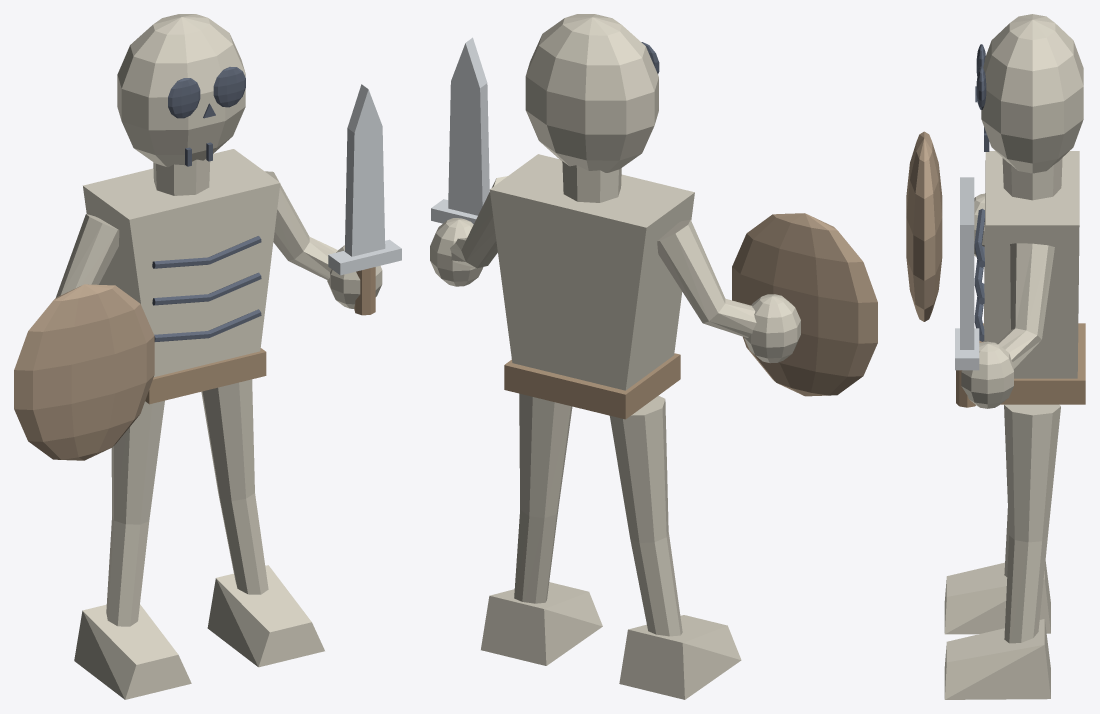
The model's file is skeleton-warrior.glb.
3 views of the same model, side by side, from view 1: azimuth 30°, elevation 25°; view 2: azimuth 150°, elevation 25°; view 3: azimuth 270°, elevation 25° (orthographic). The views are drawn at different scales.
Visible parts, largest first — view 1: torso, round_shield, head, leg_1, leg_-1, foot_1, foot_-1, sword_blade, belt, arm_-1, arm_1, neck (+8 smaller); view 2: torso, round_shield, head, leg_-1, leg_1, foot_-1, foot_1, sword_blade, belt, arm_-1, hand_-1, arm_1 (+2 smaller); view 3: torso, head, leg_1, foot_1, round_shield, foot_-1, arm_1, sword_blade, hand_1, belt, neck, sword_guard (+6 smaller).
Part boxes in pixels (x1=…): torso: x1=83, y1=149, x2=280, y2=376; round_shield: x1=14, y1=284, x2=154, y2=460; head: x1=117, y1=14, x2=245, y2=167; leg_1: x1=201, y1=379, x2=268, y2=594; leg_-1: x1=106, y1=400, x2=164, y2=626; foot_1: x1=207, y1=565, x2=324, y2=667; foot_-1: x1=74, y1=604, x2=191, y2=699; sword_blade: x1=344, y1=84, x2=385, y2=256; belt: x1=145, y1=348, x2=266, y2=404; arm_-1: x1=56, y1=214, x2=119, y2=297; arm_1: x1=265, y1=171, x2=337, y2=280; neck: x1=153, y1=159, x2=210, y2=195; torso: x1=489, y1=154, x2=694, y2=390; round_shield: x1=732, y1=213, x2=877, y2=396; head: x1=525, y1=14, x2=658, y2=172; leg_-1: x1=610, y1=395, x2=682, y2=636; leg_1: x1=514, y1=393, x2=572, y2=603; foot_-1: x1=619, y1=615, x2=741, y2=699; foot_1: x1=481, y1=582, x2=602, y2=665; sword_blade: x1=448, y1=37, x2=489, y2=215; belt: x1=504, y1=353, x2=680, y2=419; arm_-1: x1=657, y1=219, x2=756, y2=337; hand_-1: x1=744, y1=294, x2=800, y2=363; arm_1: x1=450, y1=176, x2=507, y2=268; torso: x1=983, y1=151, x2=1079, y2=378; head: x1=981, y1=14, x2=1083, y2=173; leg_1: x1=1004, y1=404, x2=1060, y2=643; foot_1: x1=944, y1=619, x2=1050, y2=699; round_shield: x1=906, y1=131, x2=942, y2=321; foot_-1: x1=944, y1=561, x2=1050, y2=634; arm_1: x1=997, y1=243, x2=1054, y2=368; sword_blade: x1=960, y1=177, x2=974, y2=349; hand_1: x1=961, y1=341, x2=1013, y2=408; belt: x1=979, y1=323, x2=1085, y2=404; neck: x1=1002, y1=158, x2=1062, y2=200; sword_guard: x1=955, y1=328, x2=979, y2=370.
Bounding box in the file's own units: 1.21 × 1.8 × 0.4635.
